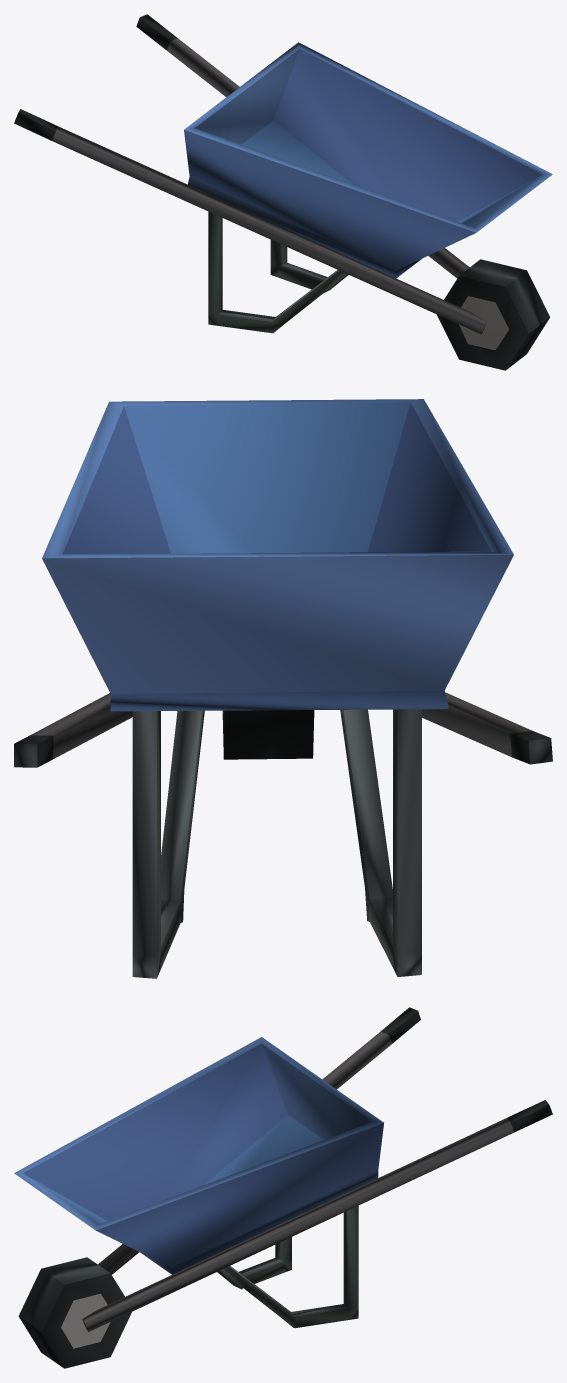
File: apoc_prop_72.glb
3 views of the same model, one above another, from view 1: azimuth 30°, elevation 25°; view 2: azimuth 150°, elevation 25°; view 3: azimuth 270°, elevation 25° (orthographic). The views are drawn at different scales.
Visible parts, largest first — view 1: prop_074; view 2: prop_074; view 3: prop_074.
Part boxes in pixels (x1,y1,x2,y2): prop_074: (14, 14, 552, 370); prop_074: (14, 399, 552, 978); prop_074: (14, 1007, 552, 1368).
Size of the model in its own units: 0.3926 by 0.2088 by 0.4805.
Materials: 1 (1 with a texture image).
